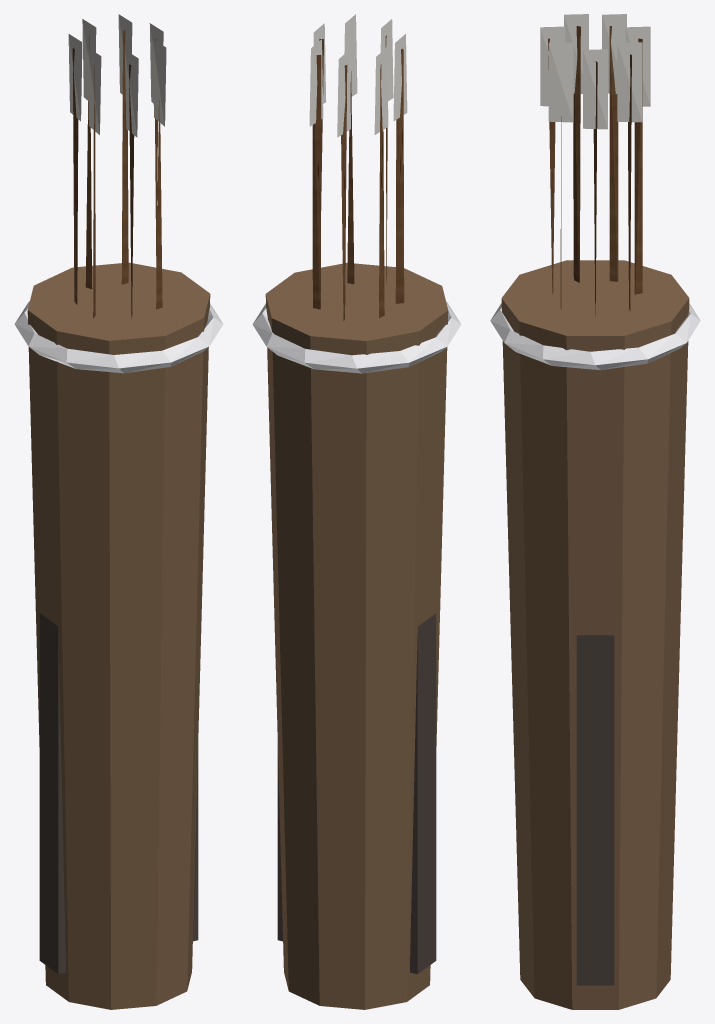
The model's file is quiver_lod1.glb.
The picture shows the model from 3 angles, left to right: view 1: azimuth 30°, elevation 25°; view 2: azimuth 150°, elevation 25°; view 3: azimuth 270°, elevation 25°; orthographic projection.
Parts seen in each view (by area): view 1: m; view 2: m; view 3: m.
Part boxes in pixels (<box>): m: <box>14,14,223,1009</box>; m: <box>252,14,461,1009</box>; m: <box>490,14,700,1009</box>.
Bounding box in the file's own units: 0.168 × 0.835 × 0.168.
Materials: 5 (1 with a texture image).
